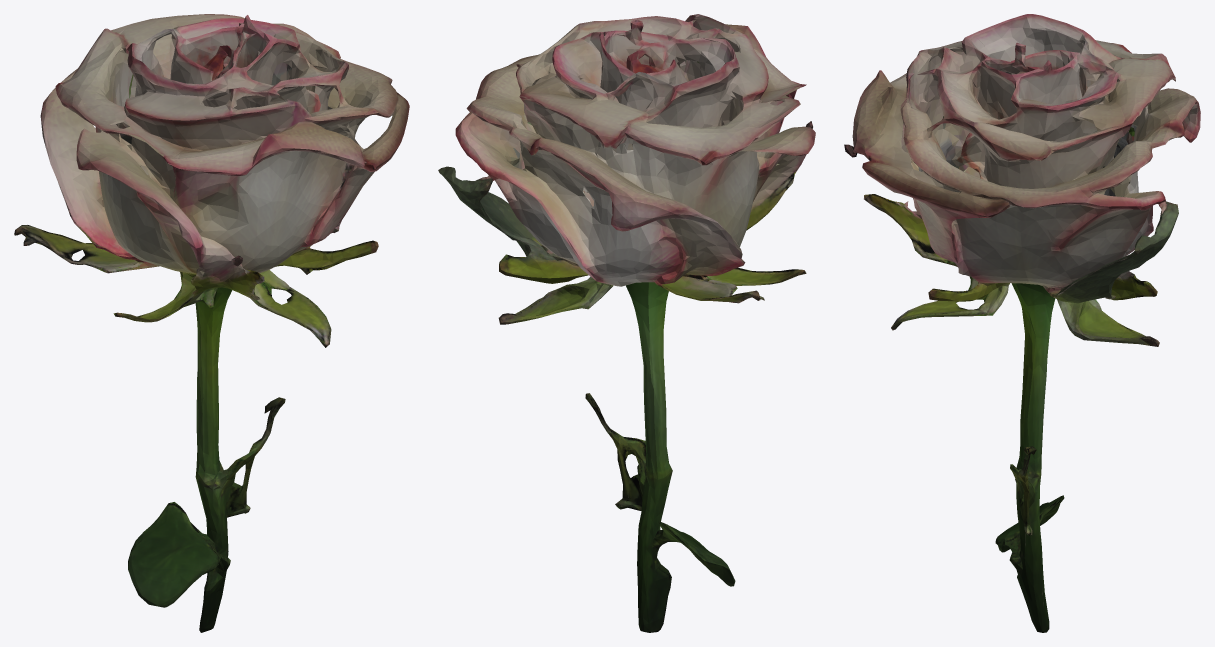
3 views of the same model, side by side, from view 1: azimuth 30°, elevation 25°; view 2: azimuth 150°, elevation 25°; view 3: azimuth 270°, elevation 25° (orthographic).
Visible parts, largest first — view 1: world; view 2: world; view 3: world.
Boxes of the visible parts, x1,y1,x2,y2 form: world: [14, 14, 409, 632]; world: [438, 14, 815, 632]; world: [844, 14, 1200, 632].
Size of the model in its own units: 0.5403 by 0.9567 by 0.5165.
1 material, 1 textured.
